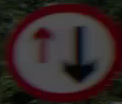Two way: (28, 17, 114, 86)
